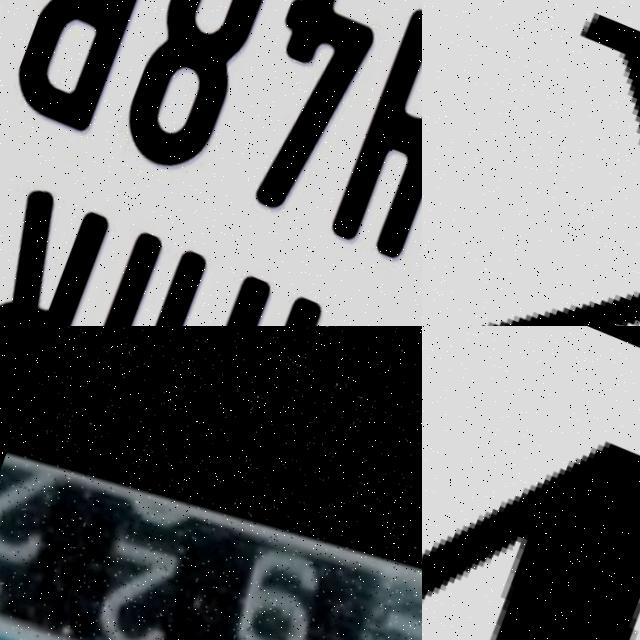2: (45, 518, 210, 640), (0, 445, 92, 594)
4: (200, 0, 405, 230)
8: (89, 0, 300, 185)
9: (191, 526, 355, 640)
H: (309, 11, 422, 272), (25, 225, 220, 326)
K: (422, 0, 640, 326)
R: (0, 0, 190, 141), (0, 176, 123, 326)
V: (422, 326, 640, 640)
